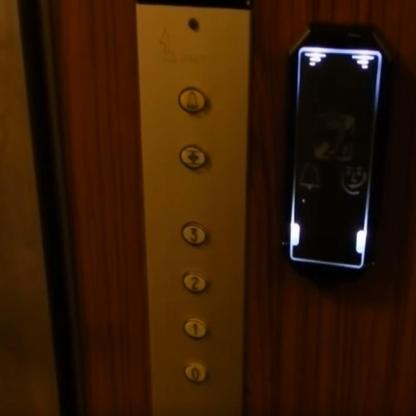0: (182, 362, 206, 383)
1: (182, 318, 208, 340)
2: (181, 270, 208, 294)
3: (180, 219, 207, 245)
alarm: (178, 86, 206, 114)
unknown: (179, 144, 207, 170)
